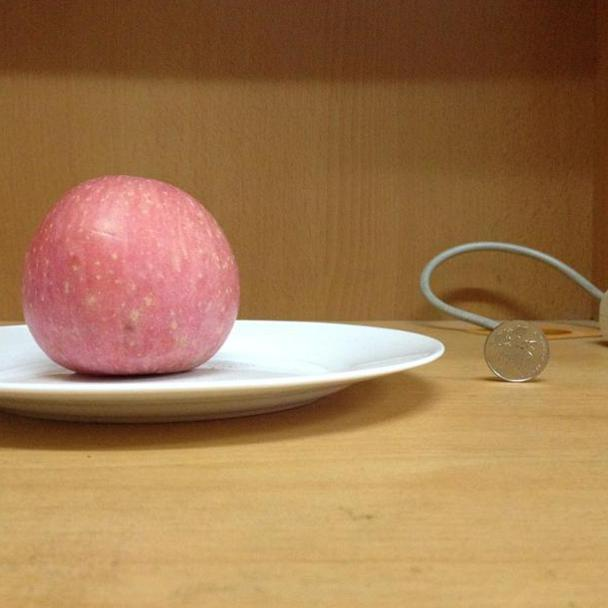apple: (22, 173, 240, 379)
